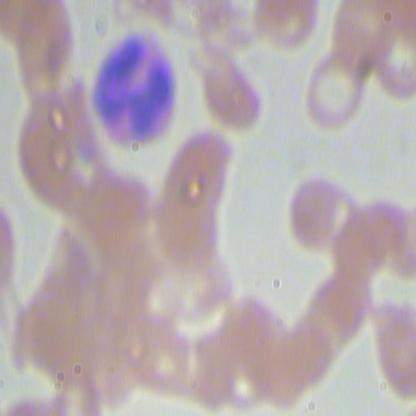WBC: (83, 27, 183, 149)
